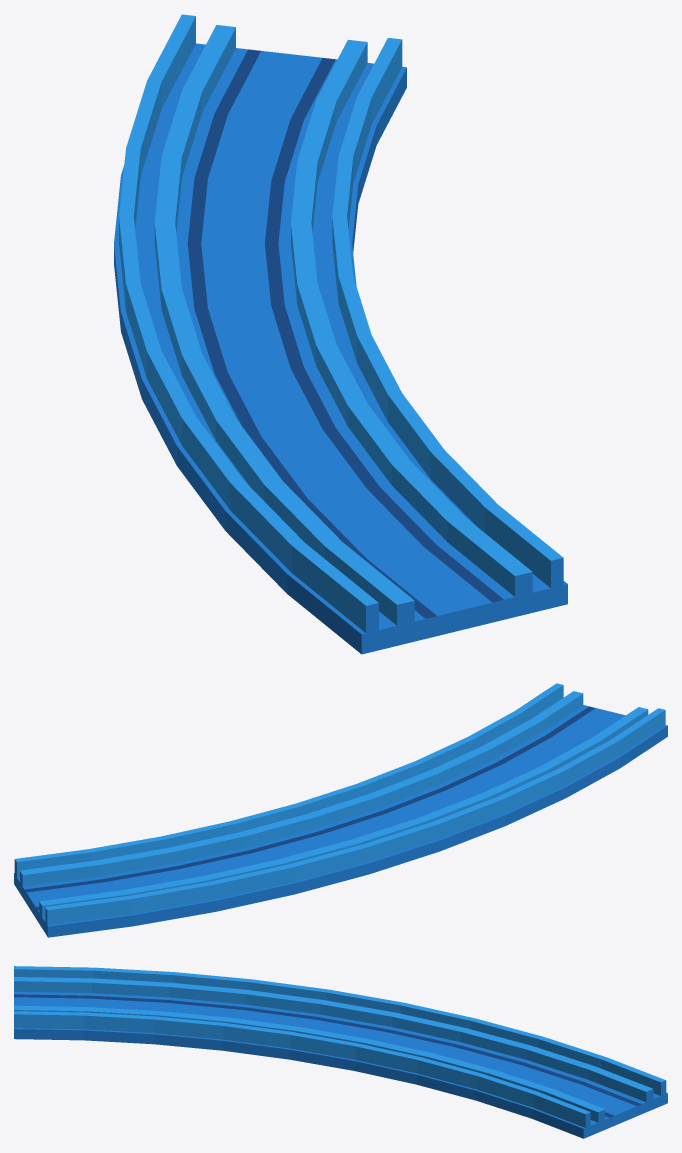
File: Track_Curve_Outer_Right_45.fbx
The picture shows the model from 3 angles, top to bottom: view 1: azimuth 30°, elevation 25°; view 2: azimuth 150°, elevation 25°; view 3: azimuth 270°, elevation 25°; orthographic projection. The views are drawn at different scales.
Visible parts, largest first — view 1: Molded blue rail; view 2: Molded blue rail; view 3: Molded blue rail.
Boxes of the visible parts, x1,y1,x2,y2 form: Molded blue rail: (114, 14, 567, 654); Molded blue rail: (14, 683, 667, 937); Molded blue rail: (14, 966, 667, 1138).
Size of the model in its own units: 315 by 23.21 by 579.
